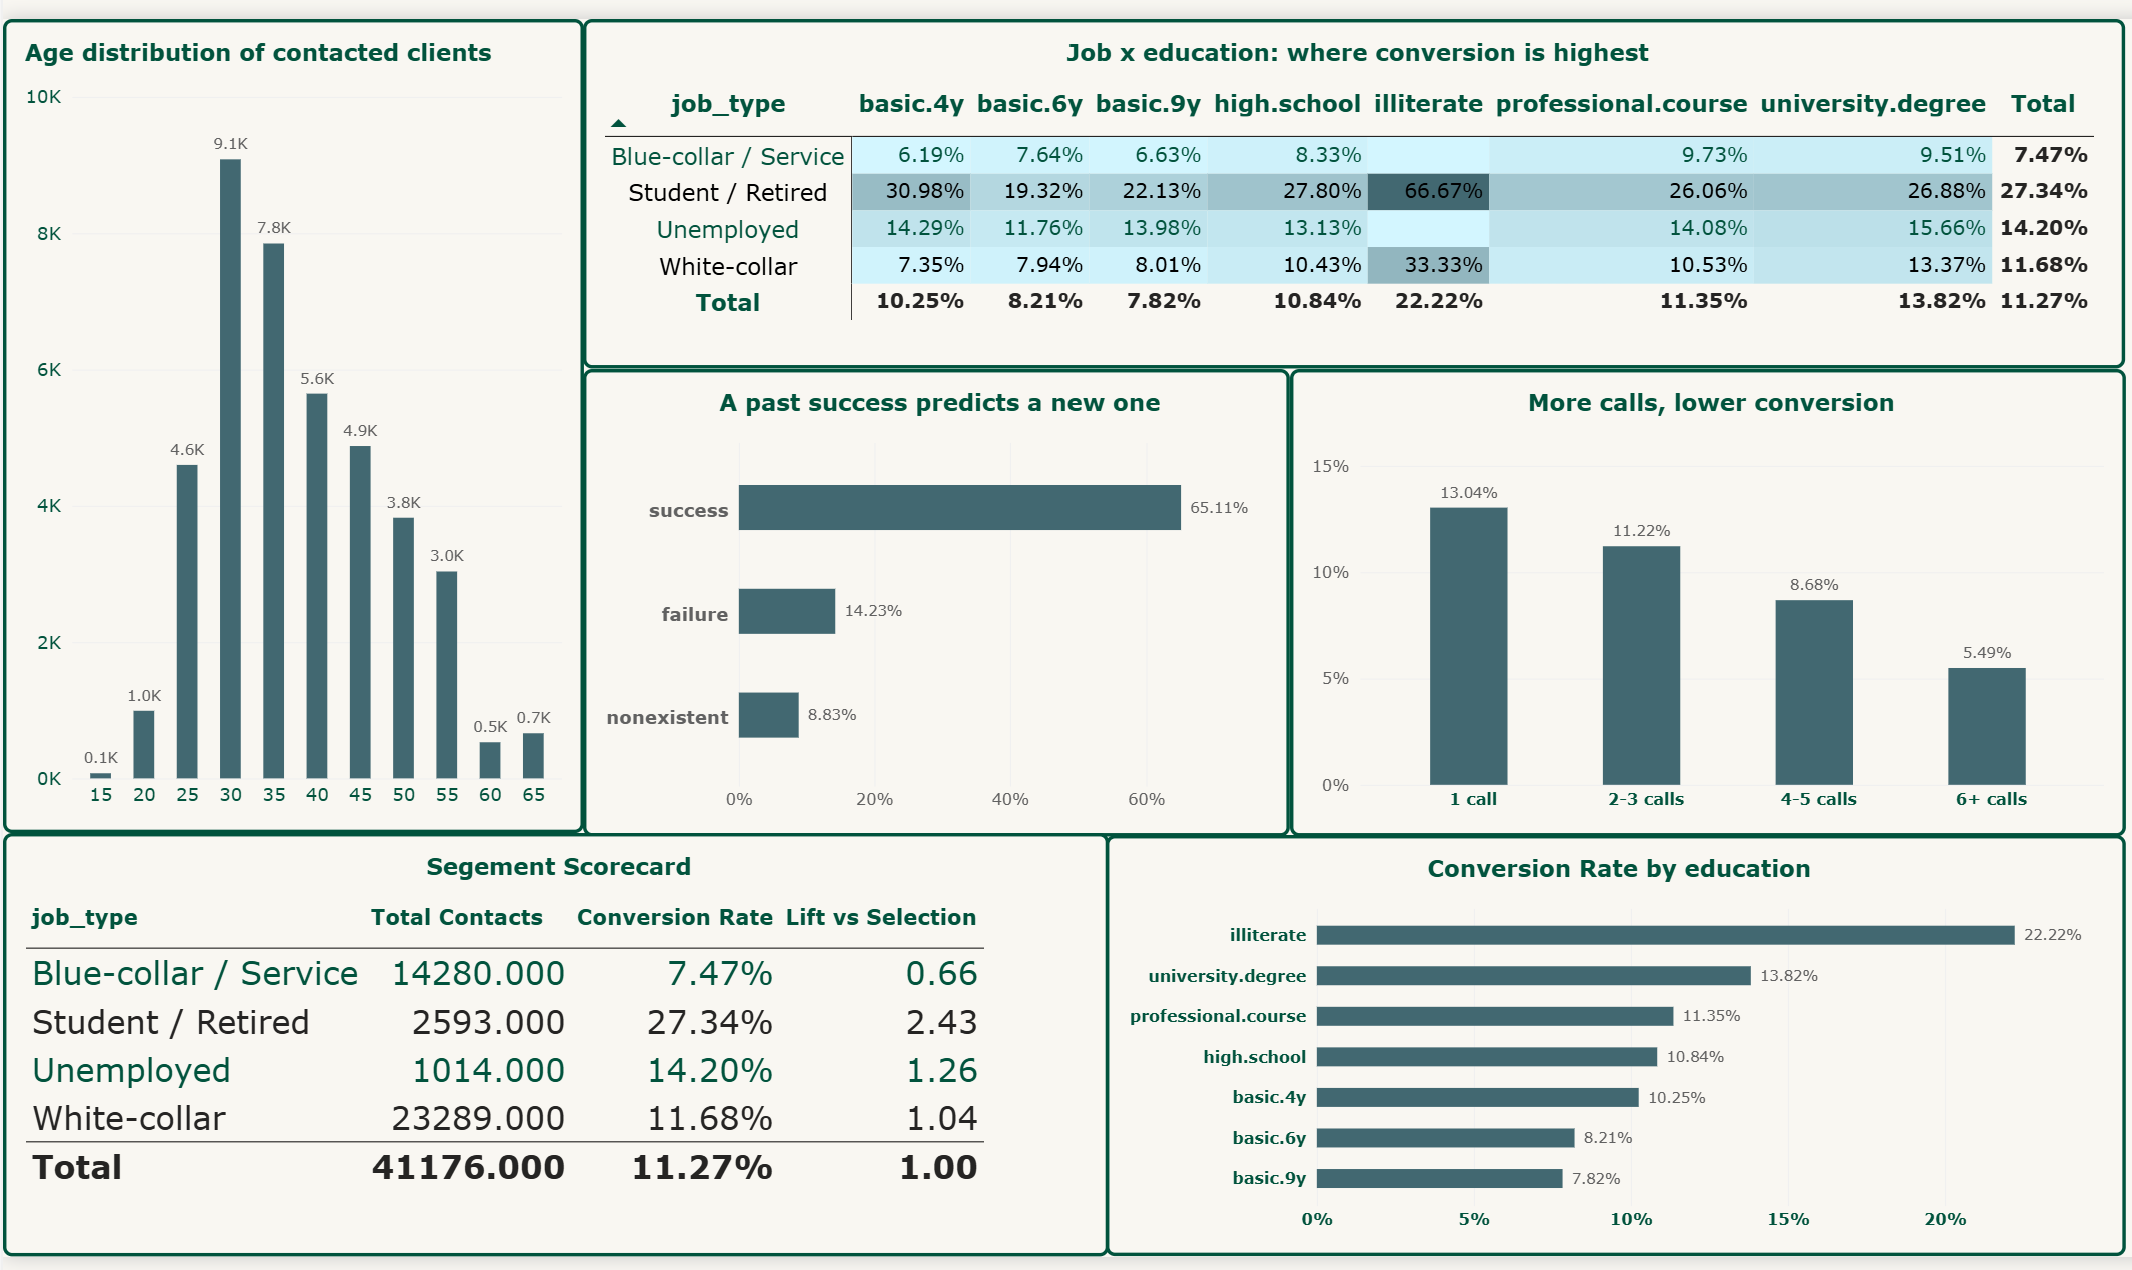

This screenshot's page, from the dashboard's own definition file:
{"tool":"powerbi","page":{"name":"Customer Segments","canvas":[1920,1080],"ordinal":3},"visuals":[{"type":"pivotTable","title":"Job x education: where conversion is highest","fields":{"Columns":["bank.education"],"Rows":["bank.job_type"],"Values":["bank.Conversion Rate"]},"box":[506.8,0,1345.2,304.9],"z":0},{"type":"barChart","title":"A past success predicts a new one","fields":{"Category":["bank.poutcome"],"Y":["bank.Conversion Rate"]},"box":[506.8,304.9,616,407.9],"z":1000},{"type":"columnChart","title":"More calls, lower conversion","fields":{"Category":["bank.campaign_group"],"Y":["bank.Conversion Rate"]},"box":[1122.7,304.9,729.3,407.9],"z":2000},{"type":"clusteredColumnChart","title":"Age distribution of contacted clients","fields":{"Category":["bank.age (bins)"],"Y":["bank.Total Contacts"]},"box":[0,0,506.8,710.7],"z":3000},{"type":"tableEx","title":"Segement Scorecard","fields":{"Values":["bank.job_type","bank.Total Contacts","bank.Conversion Rate","bank.Lift vs Selection"]},"box":[0,710.7,964.4,369.6],"z":4000},{"type":"clusteredBarChart","fields":{"Category":["bank.education"],"Y":["bank.Conversion Rate"]},"box":[962.2,712.9,890,367.4],"z":5000}]}

Visuals, with their boxes in screenshot pixels (x1, y1, x2, y2):
"Job x education: where conversion is highest" pivotTable: crop(581, 22, 2108, 368)
"A past success predicts a new one" barChart: crop(581, 368, 1280, 831)
"More calls, lower conversion" columnChart: crop(1280, 368, 2108, 831)
"Age distribution of contacted clients" clusteredColumnChart: crop(6, 22, 581, 829)
"Segement Scorecard" tableEx: crop(6, 829, 1100, 1249)
clusteredBarChart - bank.education x bank.Conversion Rate: crop(1098, 832, 2108, 1249)
